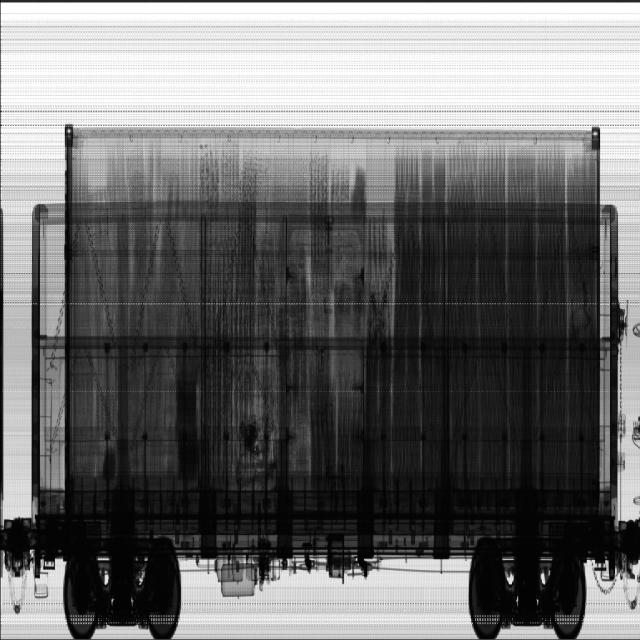clothes: (334, 282, 366, 381)
shoes: (391, 148, 594, 498)
